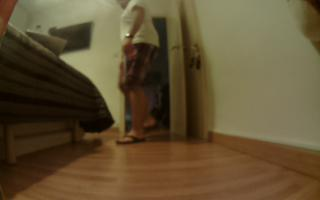person: (111, 1, 163, 145)
